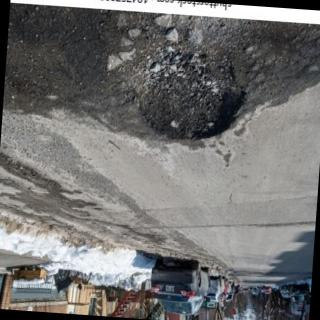pothole: (140, 42, 248, 140)
